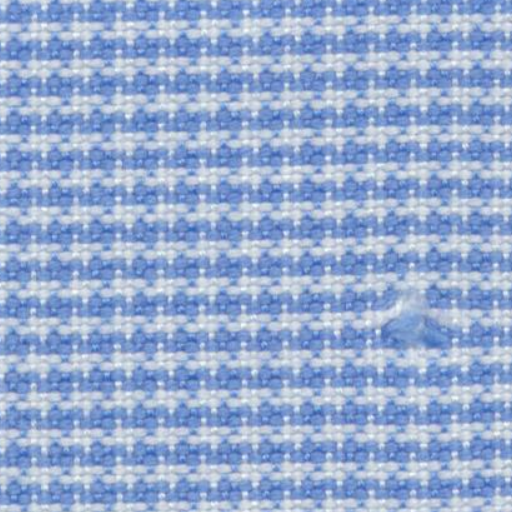MianQiu: (354, 274, 478, 371)
